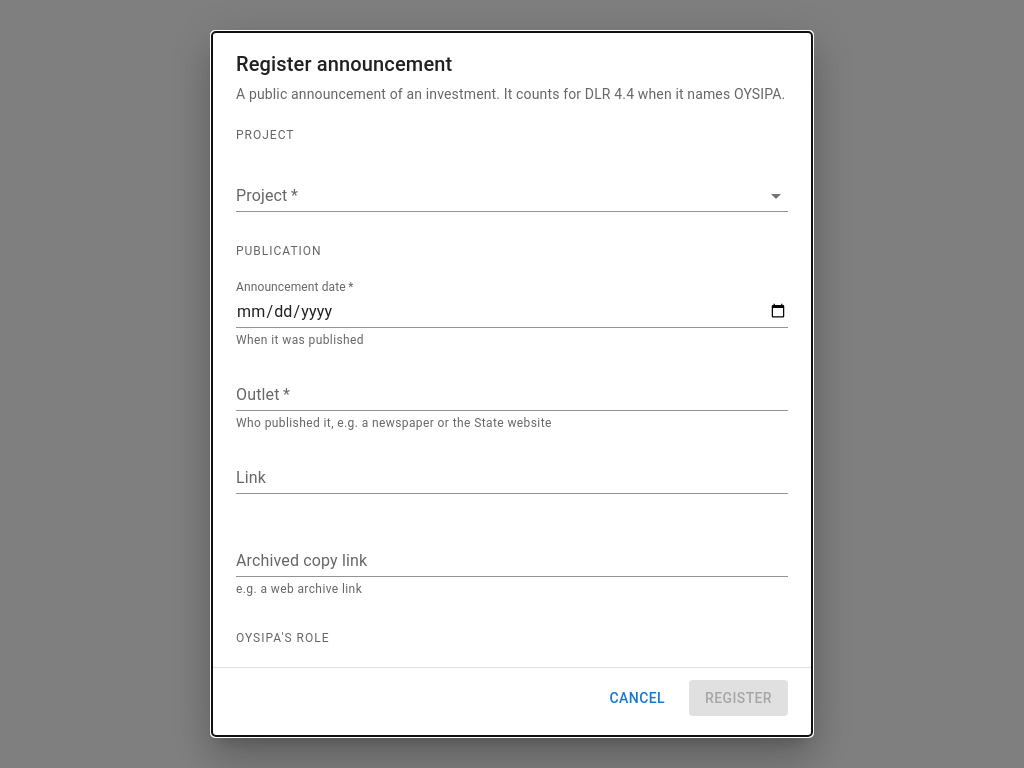
Test case: AnnouncementForm › a javascript: link blocks saving
The width and height of the screenshot is (1024, 768).
Click the dropdown labelled "Project *": (497, 195) x1=236 y1=180 x2=758 y2=211
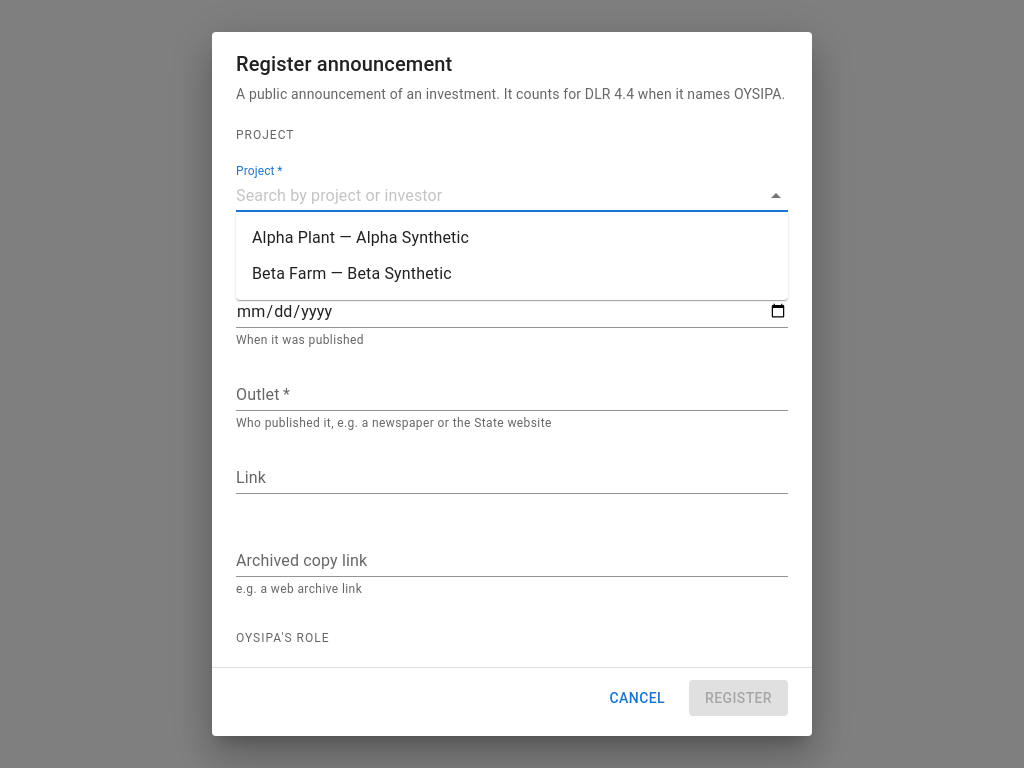
Click the option "Alpha Plant — Alpha Synthetic": (361, 238) x1=252 y1=228 x2=469 y2=247
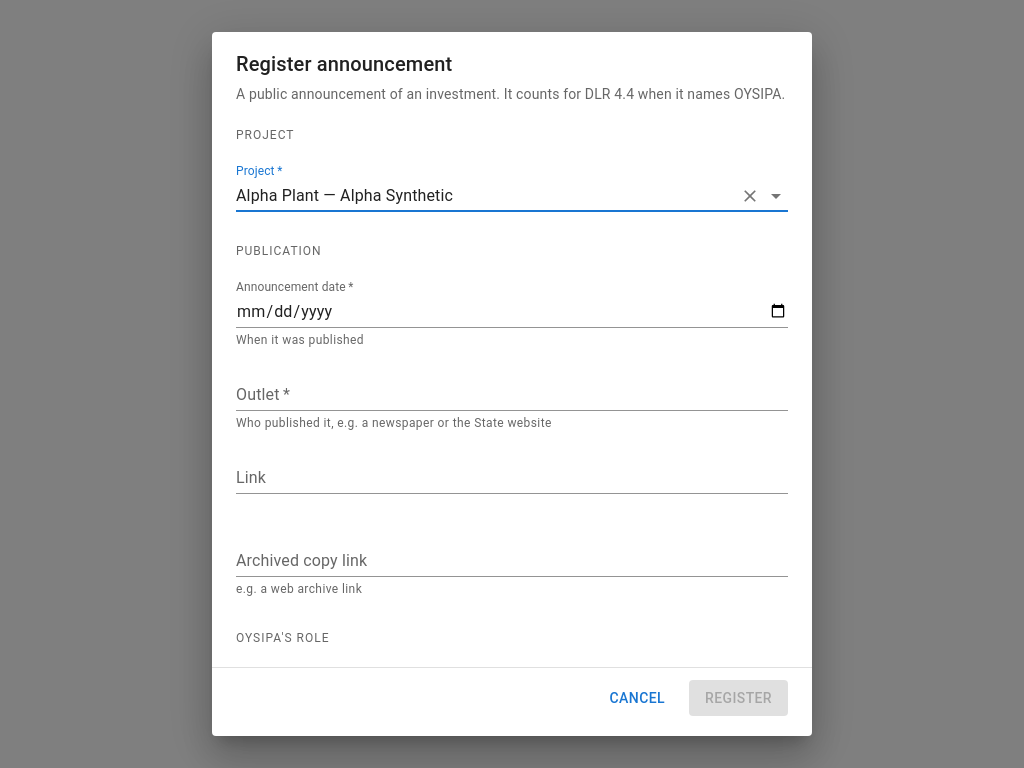
In the date field labelled "Announcement date *": (512, 312) x1=236 y1=296 x2=788 y2=328, type "2026-04-23"
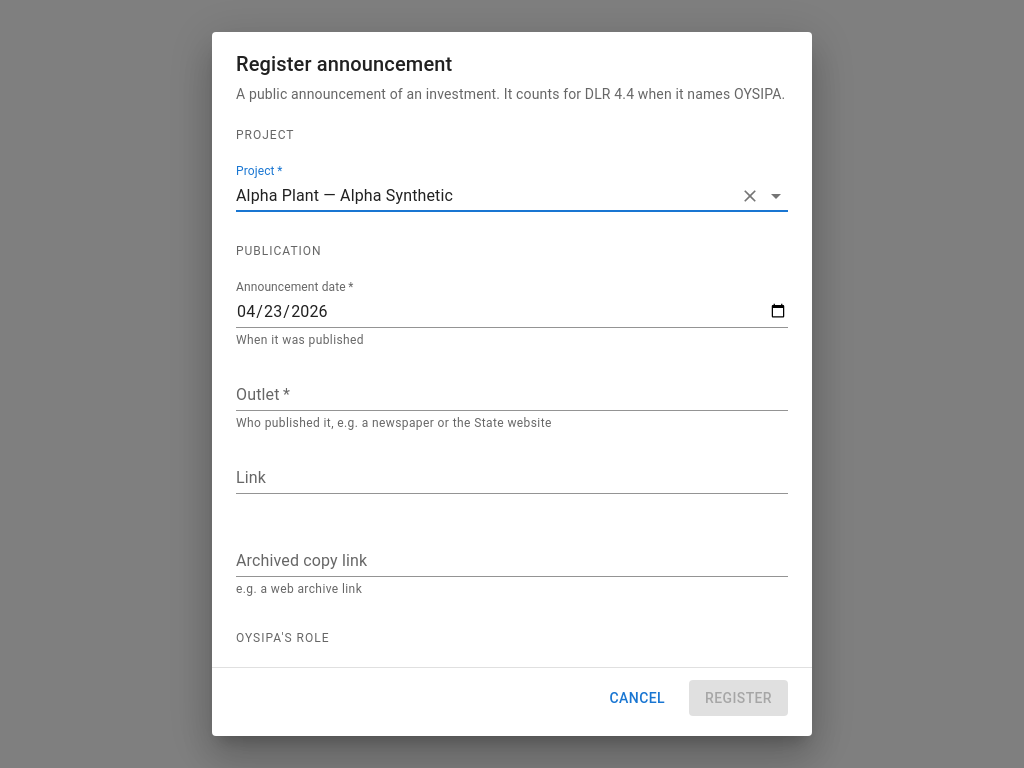
In the field labelled "Outlet *": (512, 395) x1=236 y1=379 x2=788 y2=411, type "  State website "
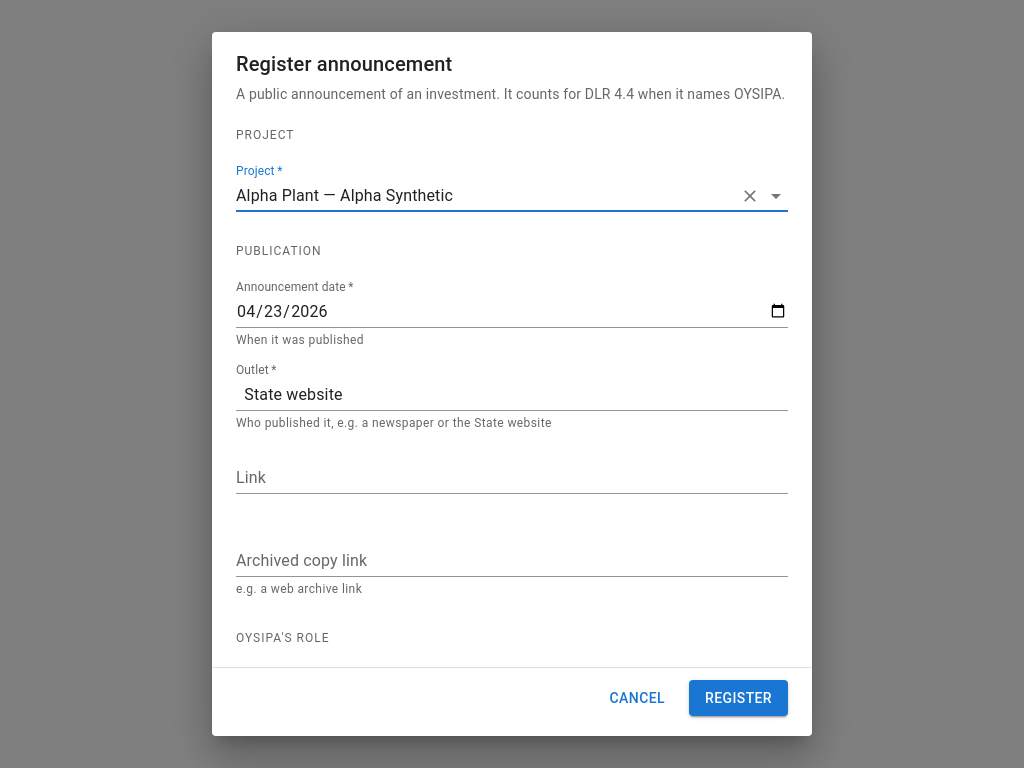
Now the button "Register" is enabled, box x1=689 y1=680 x2=788 y2=716
In the field labelled "Link": (512, 478) x1=236 y1=462 x2=788 y2=494, type "javascript:x"
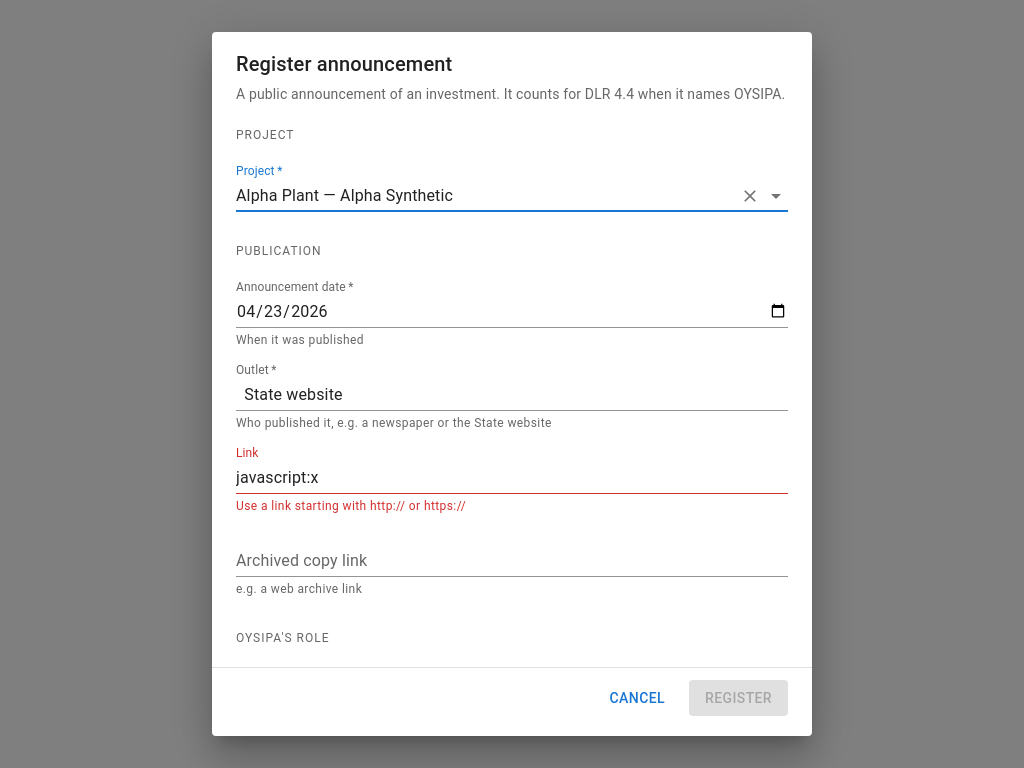
Now the button "Register" is disabled, box x1=689 y1=680 x2=788 y2=716
